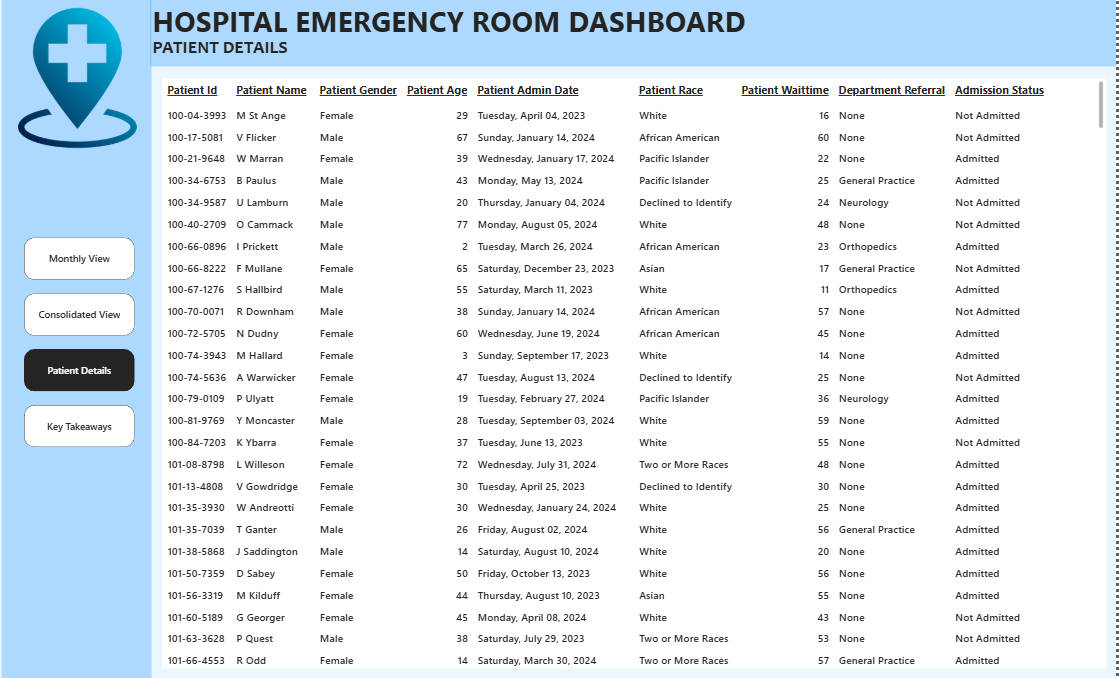

Layout of this report page (visuals, bound fields, positions):
{"tool":"powerbi","page":{"name":"Patient Details","canvas":[2300,1400],"ordinal":2},"visuals":[{"type":"shape","box":[3.1,0,309.3,1400],"z":0},{"type":"shape","box":[309.3,0,1991.8,139.2],"z":1000},{"type":"textbox","box":[309.3,0,1246.4,92.8],"z":2000},{"type":"textbox","box":[309.3,71.1,491.8,68],"z":3000},{"type":"image","box":[9.3,12.4,300,300],"z":4000},{"type":"tableEx","fields":{"Values":["Hospital ER_Data.Patient Id","Hospital ER_Data.Patient Full Name","Hospital ER_Data.Patient Gender","Sum(Hospital ER_Data.Patient Age)","Hospital ER_Data.Patient Admin Date","Hospital ER_Data.Patient Race","Sum(Hospital ER_Data.Patient Waittime)","Hospital ER_Data.Department Referral","Hospital ER_Data.Admission Status"]},"box":[334,163.9,1945.4,1215.5],"z":5000},{"type":"pageNavigator","box":[49.5,491.8,228.9,433],"z":6000}]}

Visuals, with their boxes in screenshot pixels (x1, y1, x2, y2), scaled from the page's 2300x1400 canvas onto the 1119x678 screenshot:
shape: (2, 0, 152, 677)
shape: (150, 0, 1118, 67)
textbox: (150, 0, 757, 45)
textbox: (150, 34, 390, 67)
image: (5, 6, 150, 151)
tableEx - Hospital ER_Data.Patient Id x Hospital ER_Data.Patient Full Name: (162, 79, 1109, 668)
pageNavigator: (24, 238, 135, 448)
